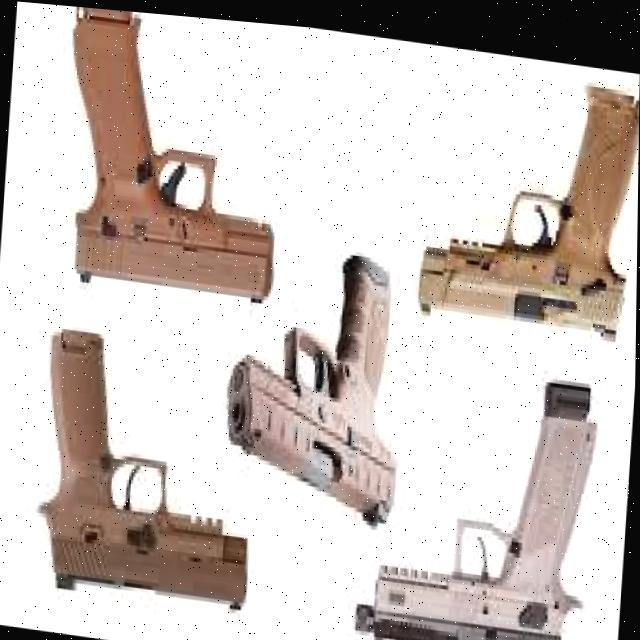gun: (354, 381, 598, 640), (38, 325, 248, 609), (73, 7, 274, 302), (417, 85, 639, 341), (224, 257, 395, 523)
